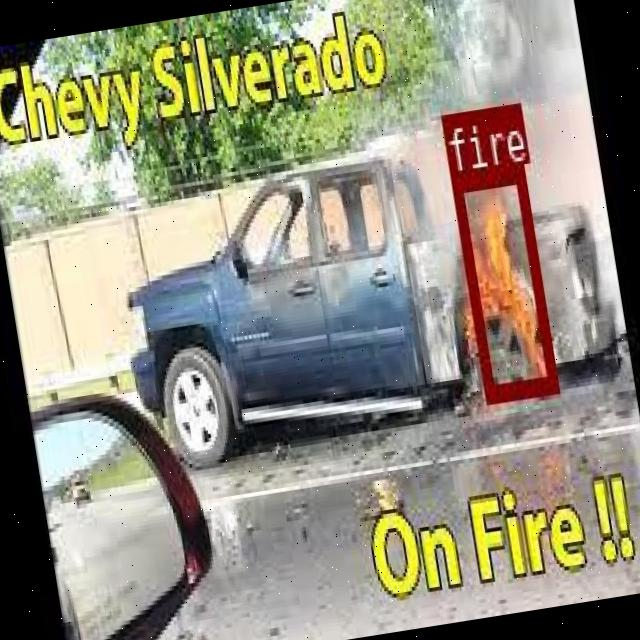fire: (452, 164, 558, 398)
